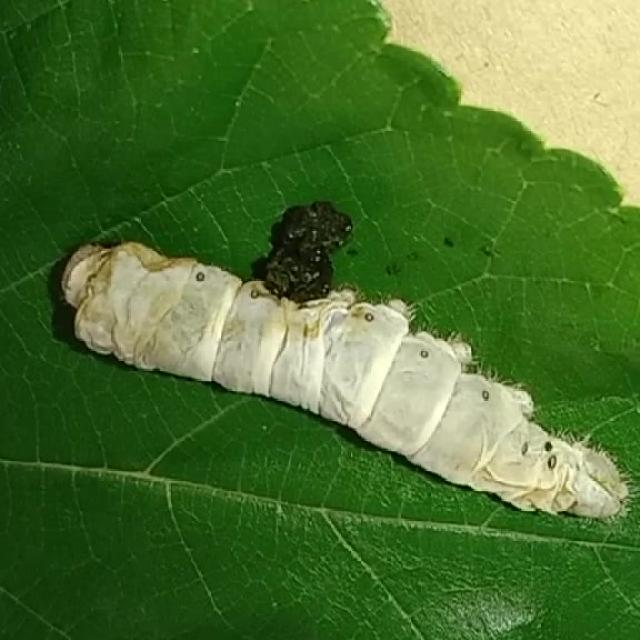Grasserie: (38, 156, 640, 543)
